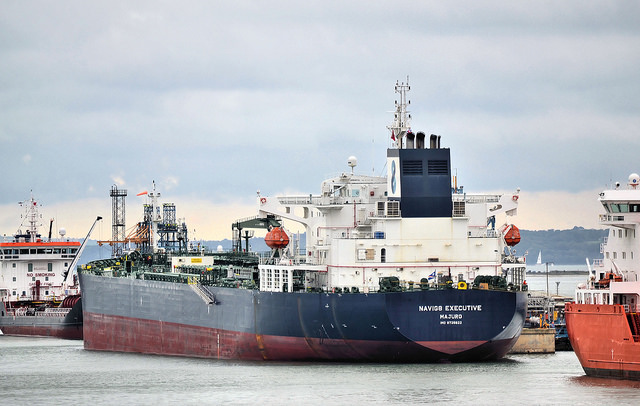tanker: (78, 83, 529, 361)
